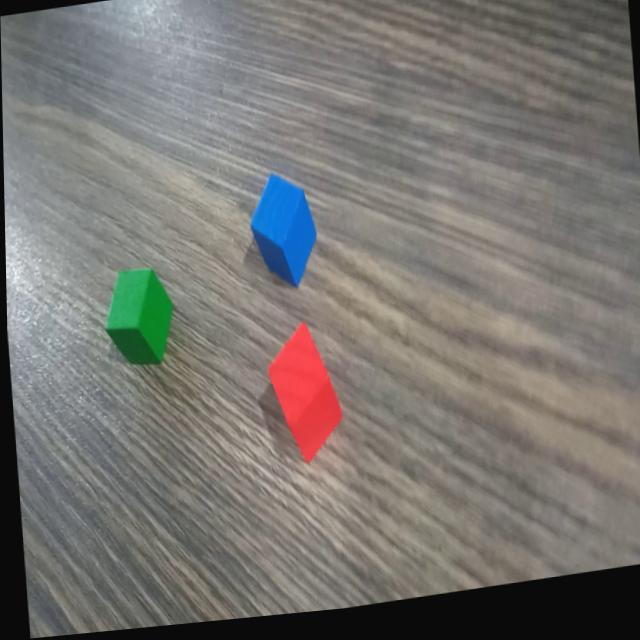cube: (262, 320, 346, 477), (245, 171, 321, 296), (97, 260, 177, 377)
